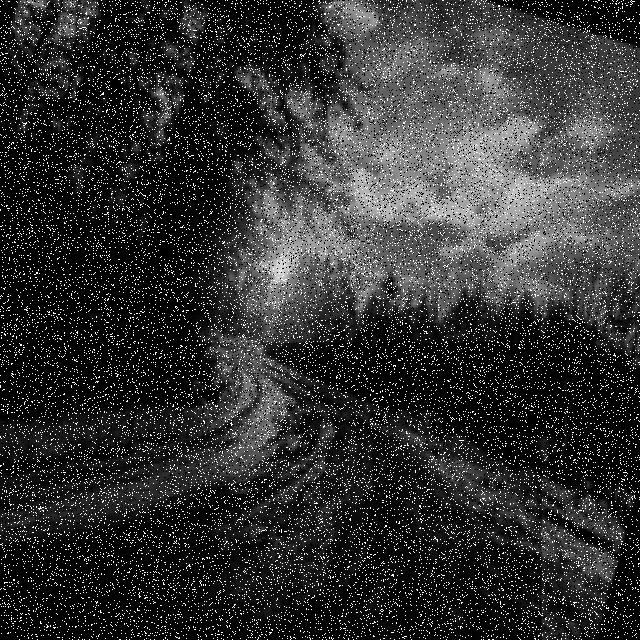ice-road: (0, 344, 532, 640)
